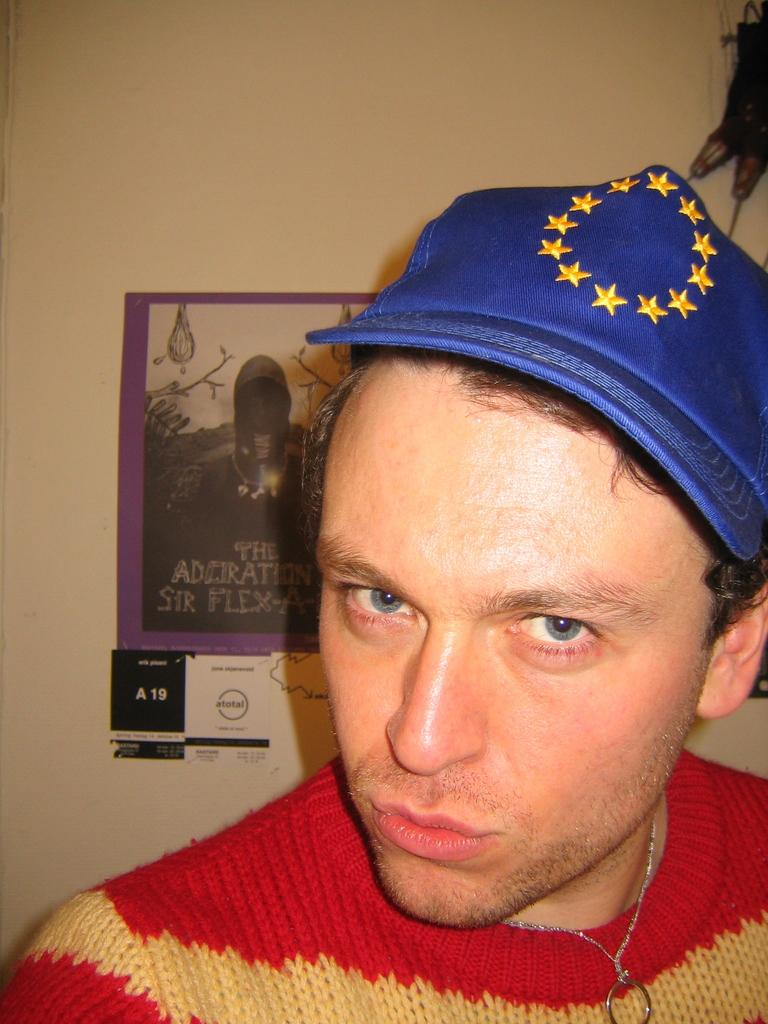Hat: (298, 160, 766, 566)
